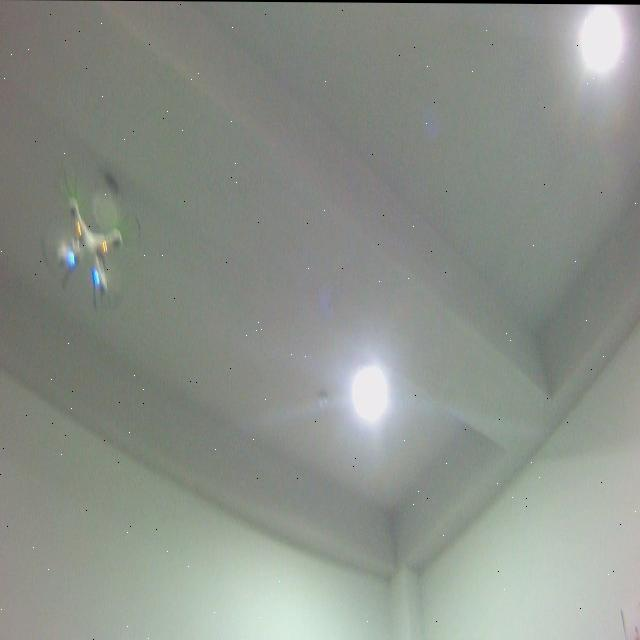drone: (40, 164, 144, 316)
